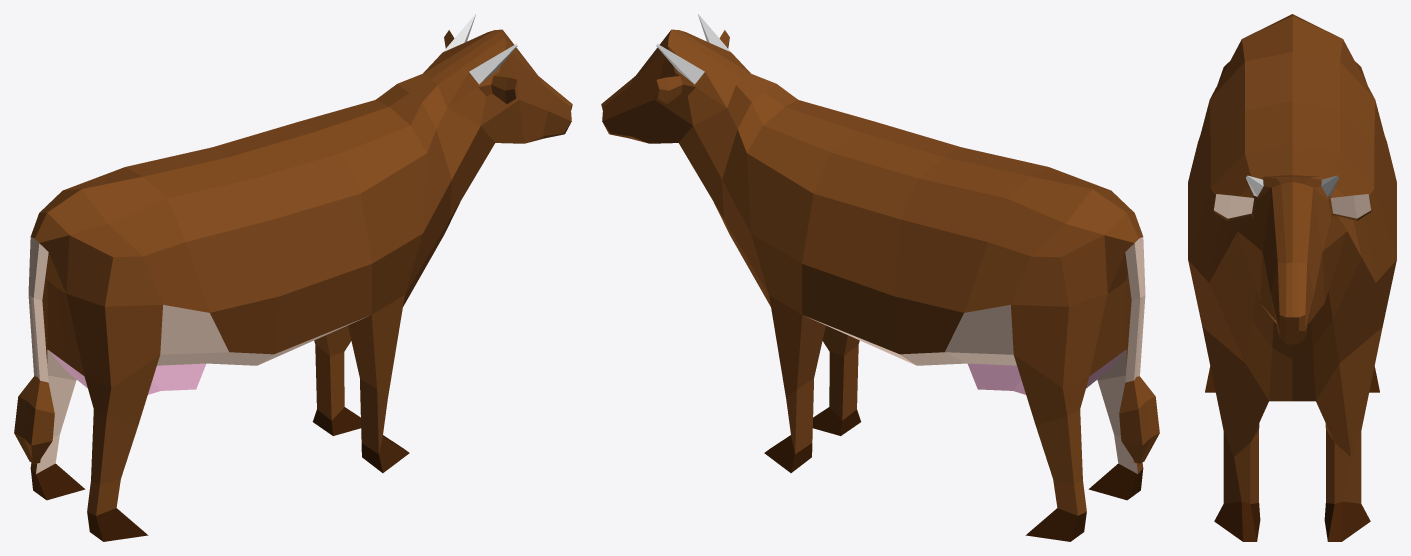
The model's file is cow.fbx.
3 views of the same model, side by side, from view 1: azimuth 30°, elevation 25°; view 2: azimuth 150°, elevation 25°; view 3: azimuth 270°, elevation 25° (orthographic). The views are drawn at different scales.
Parts seen in each view (by area): view 1: Cow; view 2: Cow; view 3: Cow.
Part boxes in pixels (bbox=[...]): Cow: bbox=[14, 14, 572, 541]; Cow: bbox=[601, 14, 1159, 541]; Cow: bbox=[1188, 14, 1396, 541].
Bounding box in the file's own units: 262 × 175 × 77.7.
